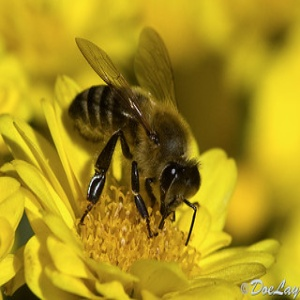bee: (68, 26, 206, 248)
